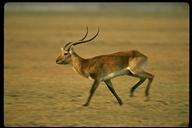antelope: (55, 23, 156, 108)
grass: (7, 15, 53, 125)
